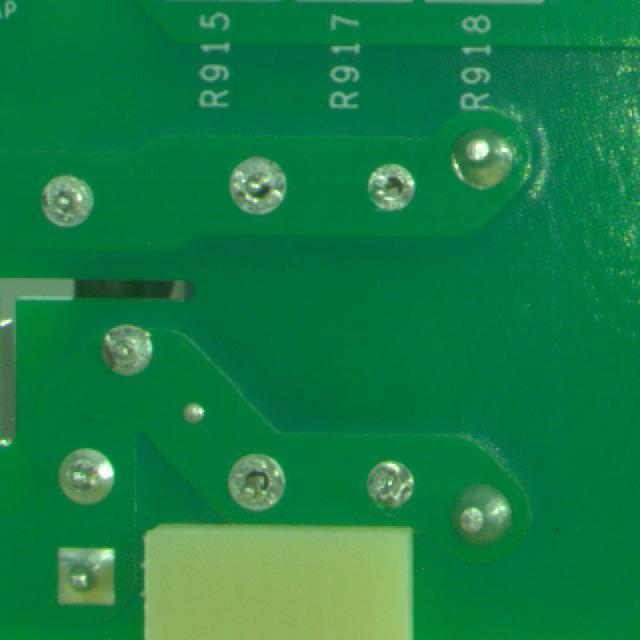Insufficient solder: (218, 147, 298, 230), (345, 448, 438, 519), (214, 447, 294, 516), (34, 171, 105, 238), (359, 150, 422, 225), (98, 309, 162, 381)
